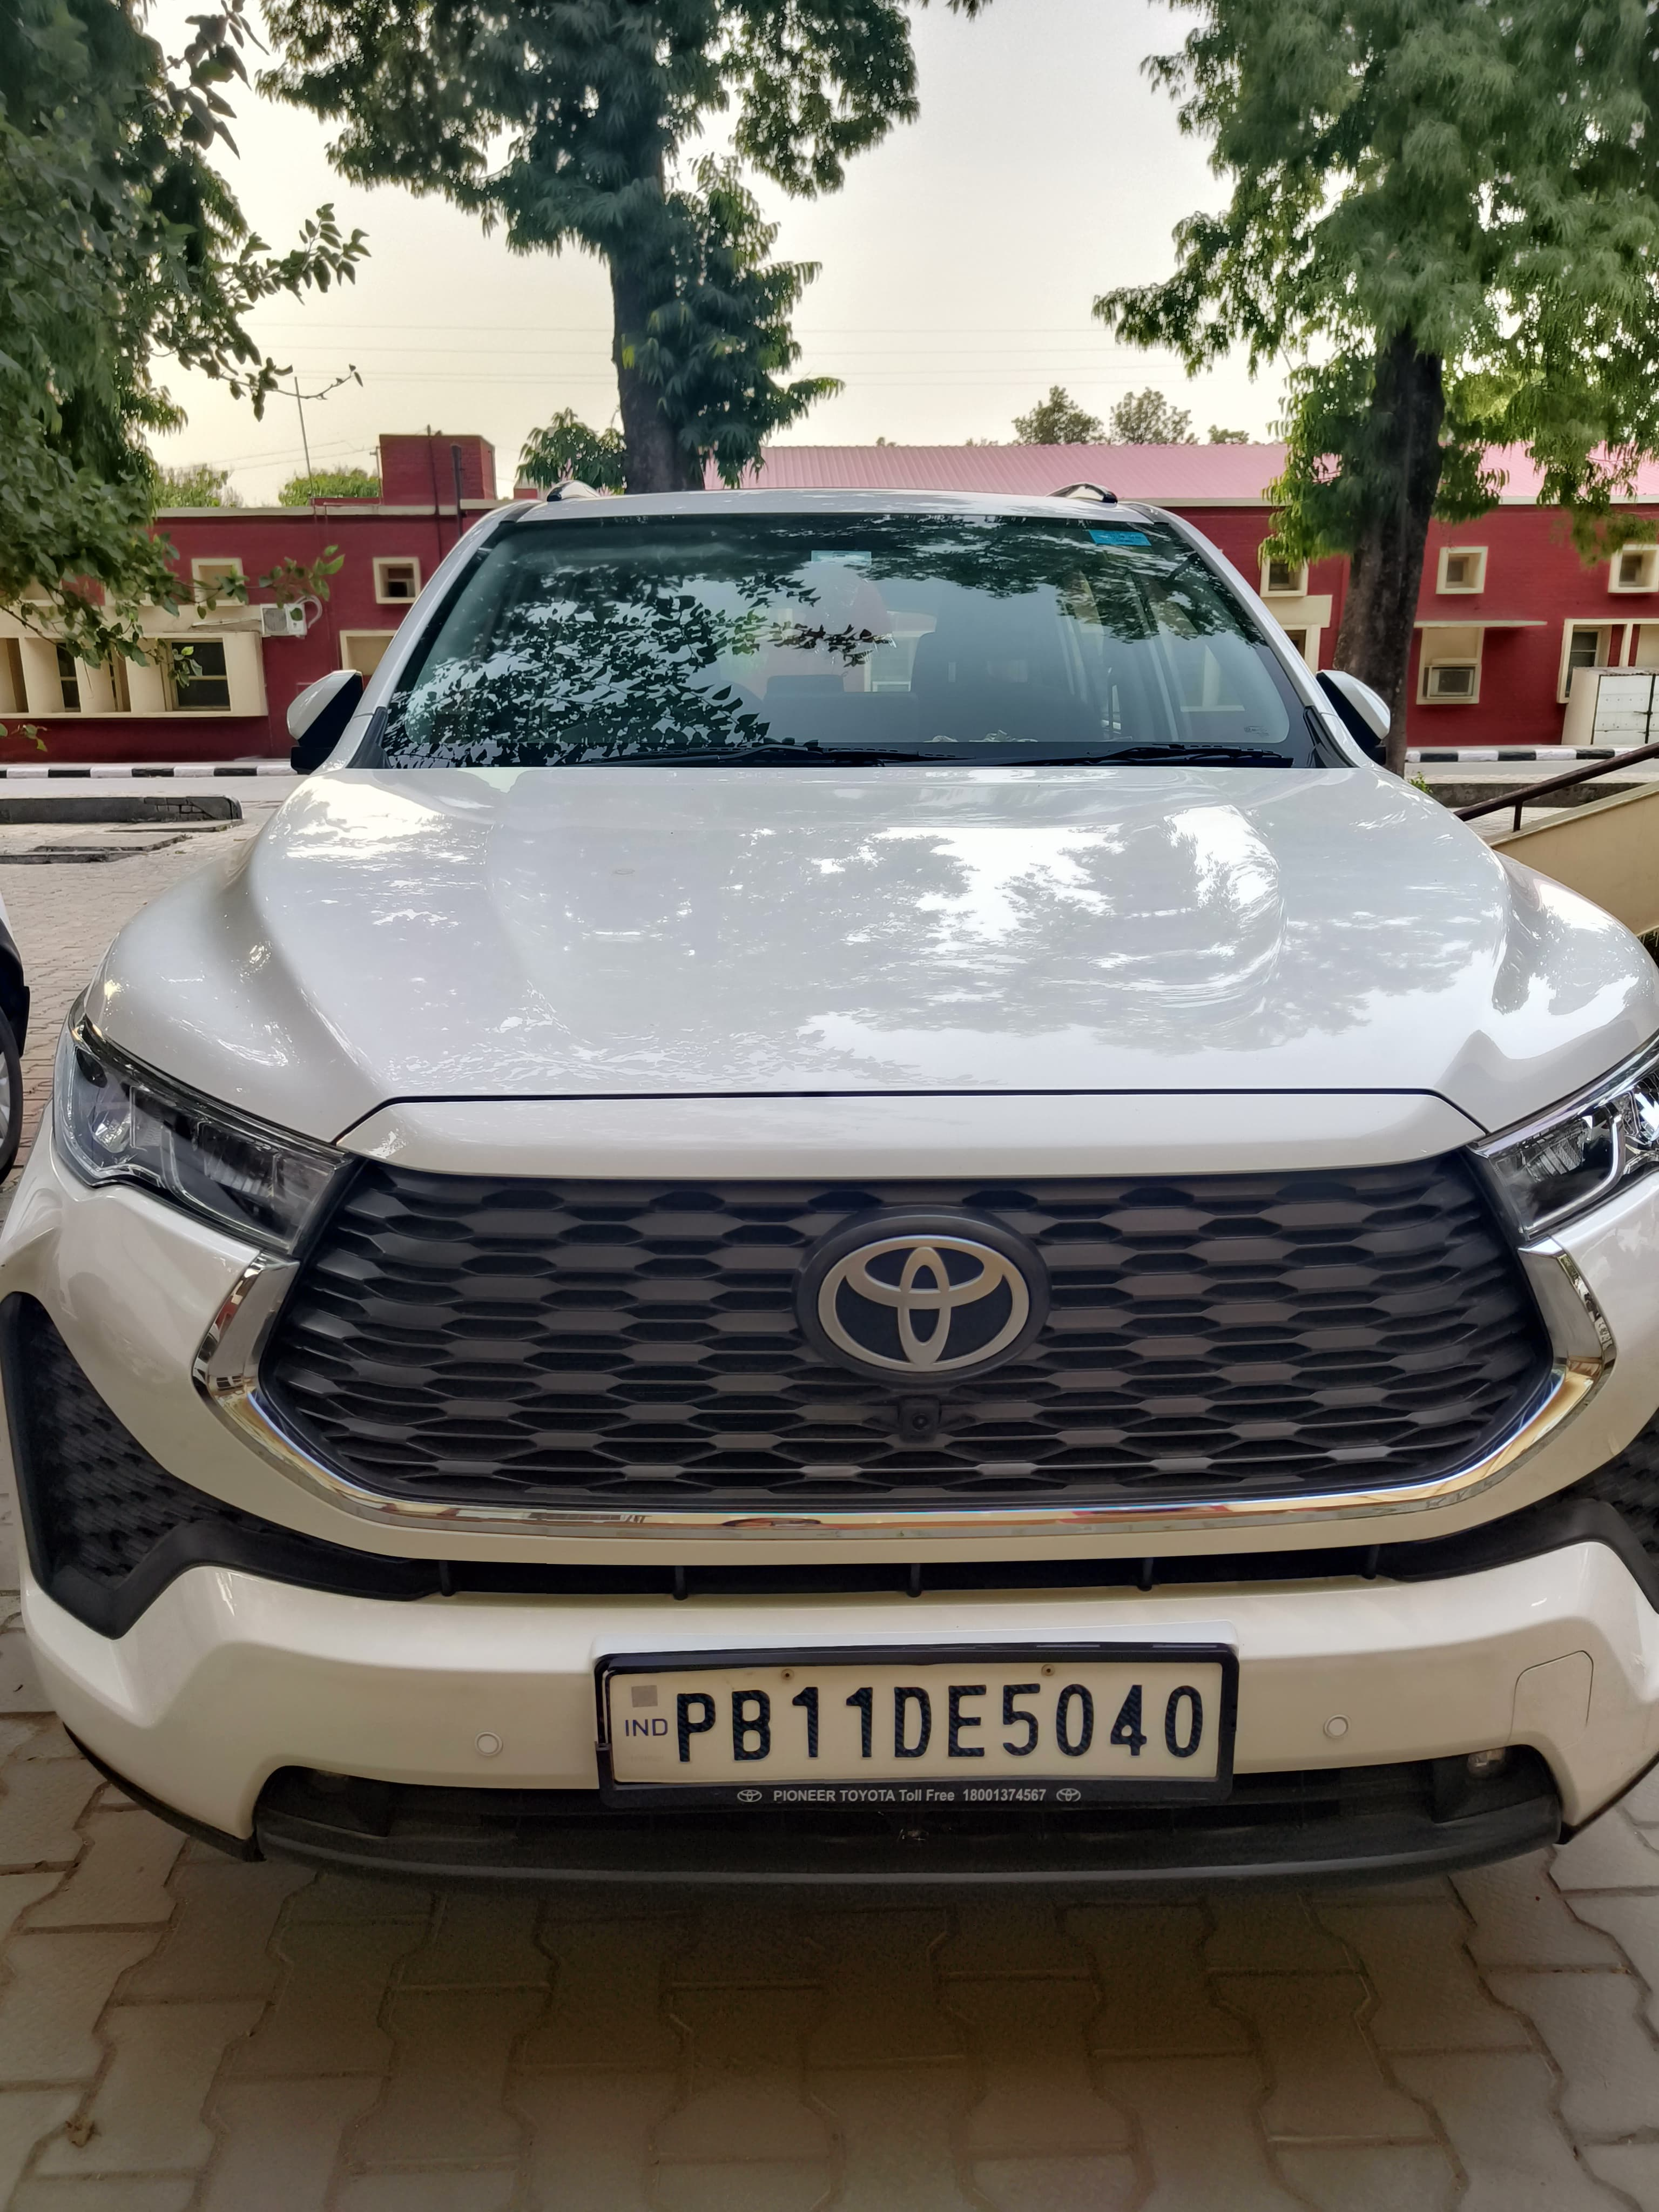license plate: (598, 1645, 1235, 1803)
